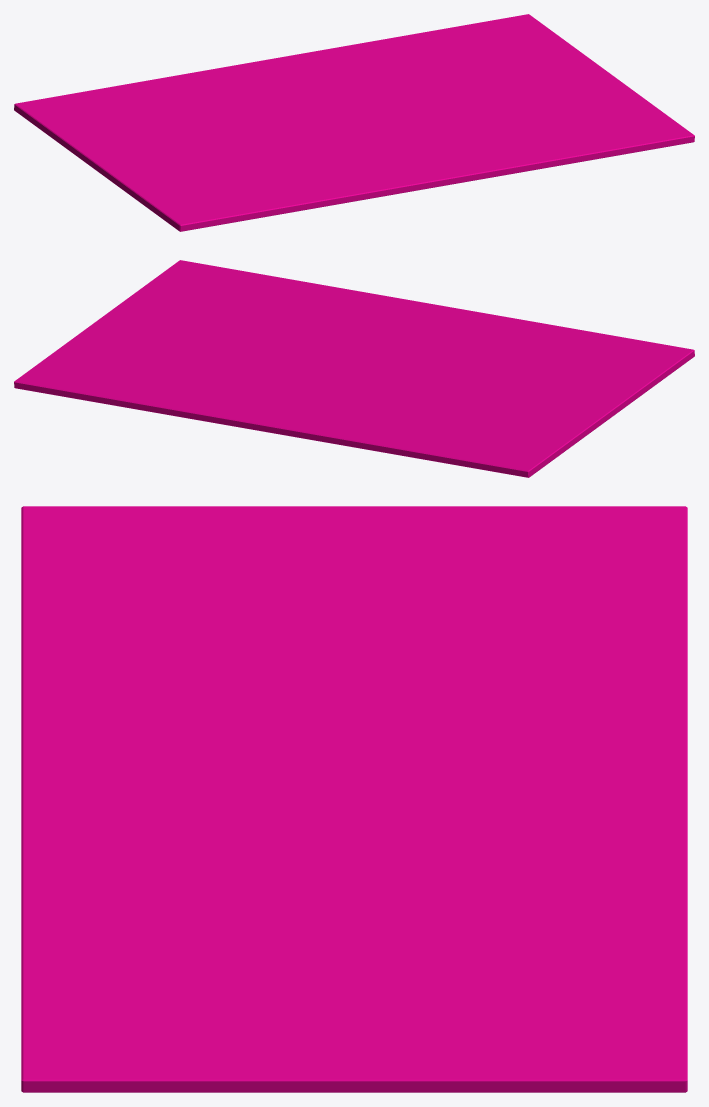
Rendered from Wide_Cabinet_Under.fbx.
3 renders of one model, top to bottom at view 1: azimuth 30°, elevation 25°; view 2: azimuth 150°, elevation 25°; view 3: azimuth 270°, elevation 25°, orthographic. The views are drawn at different scales.
Parts seen in each view (by area): view 1: Wide_Cabinet_Under; view 2: Wide_Cabinet_Under; view 3: Wide_Cabinet_Under.
Boxes of the visible parts, x1,y1,x2,y2 form: Wide_Cabinet_Under: [14, 14, 694, 231]; Wide_Cabinet_Under: [14, 260, 694, 477]; Wide_Cabinet_Under: [21, 506, 687, 1092].
Bounding box in the file's own units: 131 × 10.38 × 73.41.
